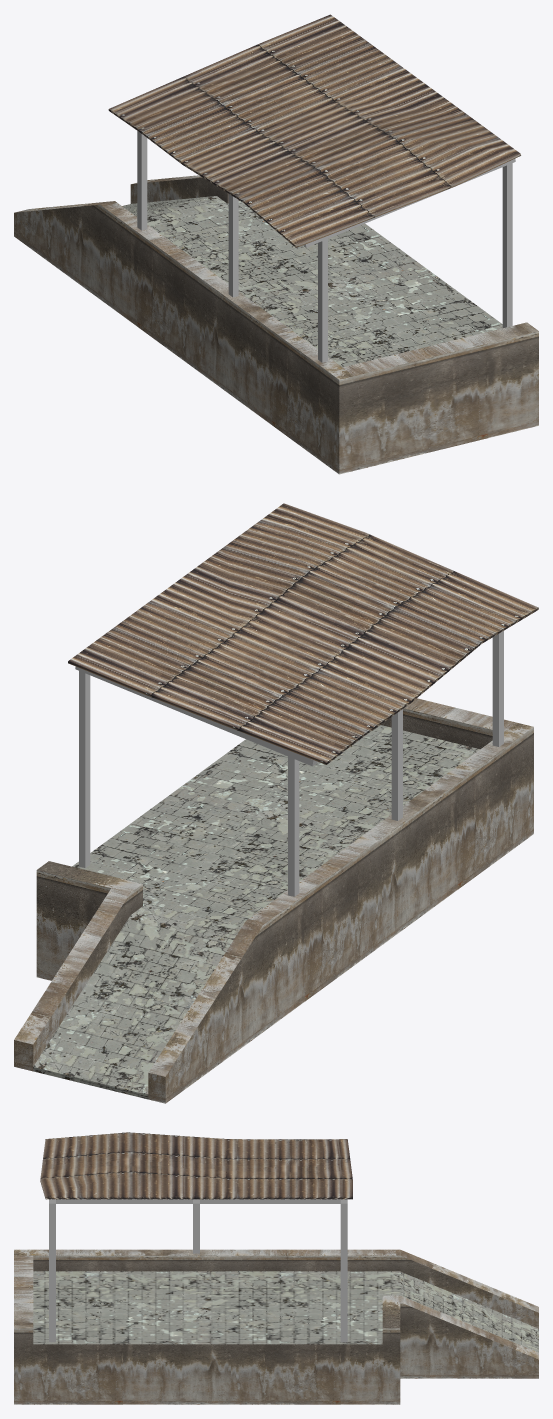
The model's file is ramp01.fbx.
3 views of the same model, one above another, from view 1: azimuth 30°, elevation 25°; view 2: azimuth 150°, elevation 25°; view 3: azimuth 270°, elevation 25° (orthographic). The views are drawn at different scales.
Parts seen in each view (by area): view 1: Mesh Object; view 2: Mesh Object; view 3: Mesh Object.
Boxes of the visible parts, box(x1,y1,x2,y2) form: Mesh Object: box(14, 14, 538, 474); Mesh Object: box(14, 503, 538, 1103); Mesh Object: box(14, 1132, 538, 1404).
Size of the model in its own units: 3.91 by 4.24 by 9.72.
